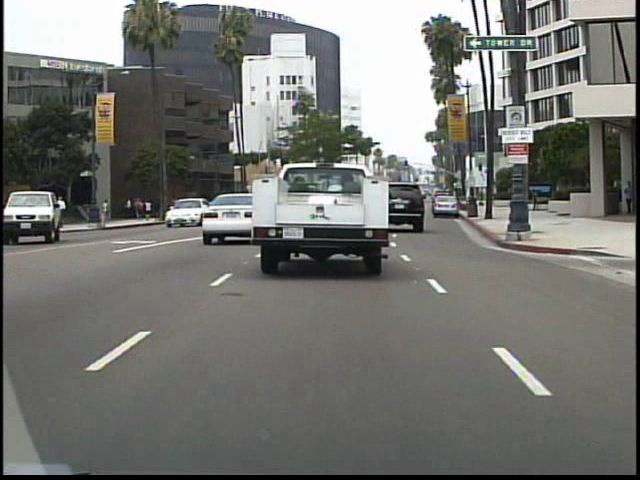person: (52, 194, 69, 231), (42, 200, 58, 237), (619, 174, 633, 216), (529, 187, 539, 213), (104, 197, 112, 225)
